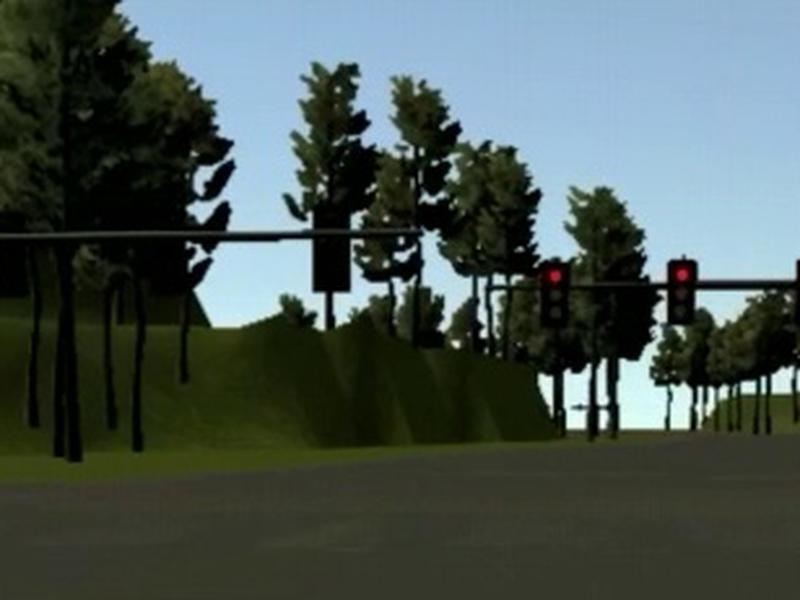Red: (667, 259, 696, 326), (541, 262, 569, 330)
